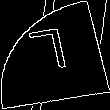L_S: (32, 27, 78, 83)
